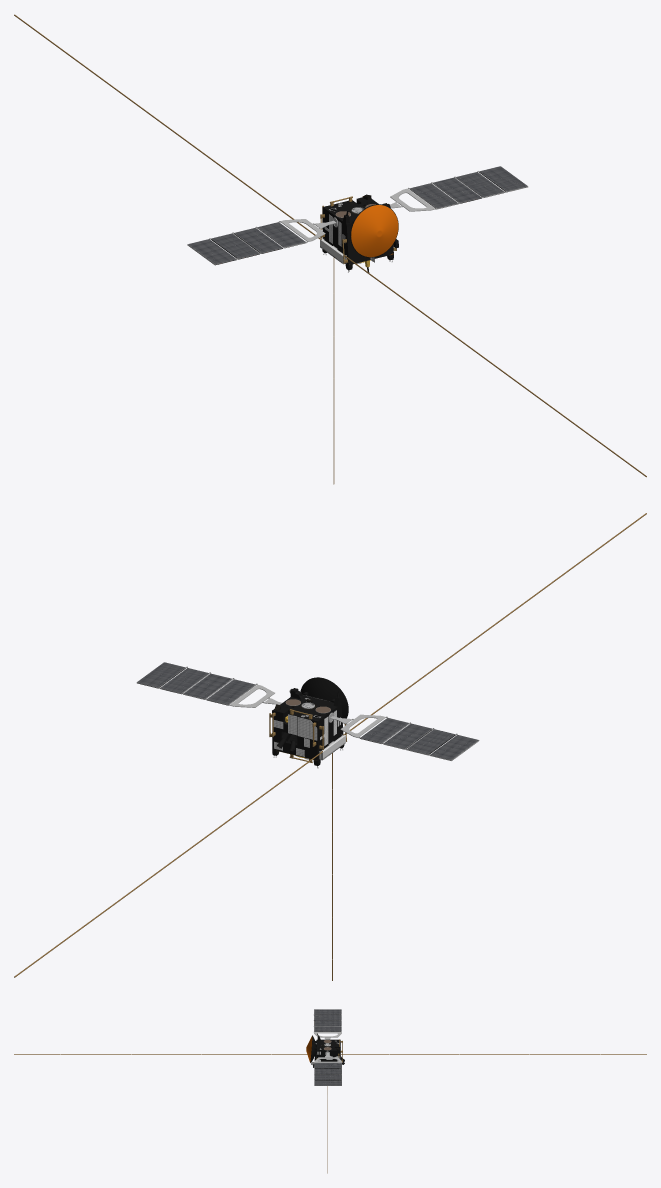
File: Mars Express mit Griffen.fbx
3 views of the same model, one above another, from view 1: azimuth 30°, elevation 25°; view 2: azimuth 150°, elevation 25°; view 3: azimuth 270°, elevation 25° (orthographic). The views are drawn at different scales.
Visible parts, largest first — view 1: MarsExpress_low; view 2: MarsExpress_low; view 3: MarsExpress_low.
Boxes of the visible parts, x1,y1,x2,y2 form: MarsExpress_low: (14,14,646,484); MarsExpress_low: (14,513,646,980); MarsExpress_low: (14,1009,646,1173).
Bounding box in the file's own units: 903 × 783 × 3147.
